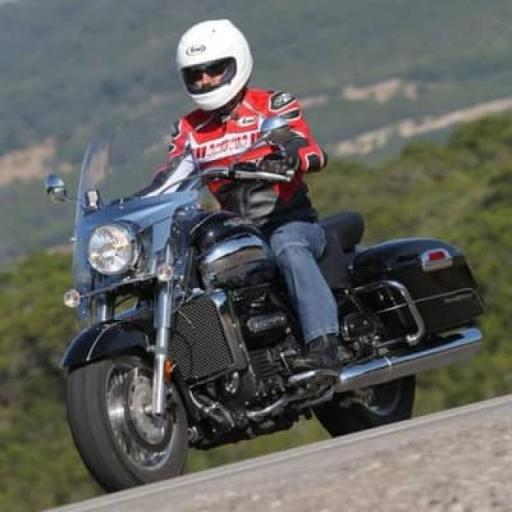Helmet: (177, 20, 252, 110)
Motor: (38, 162, 496, 489)
